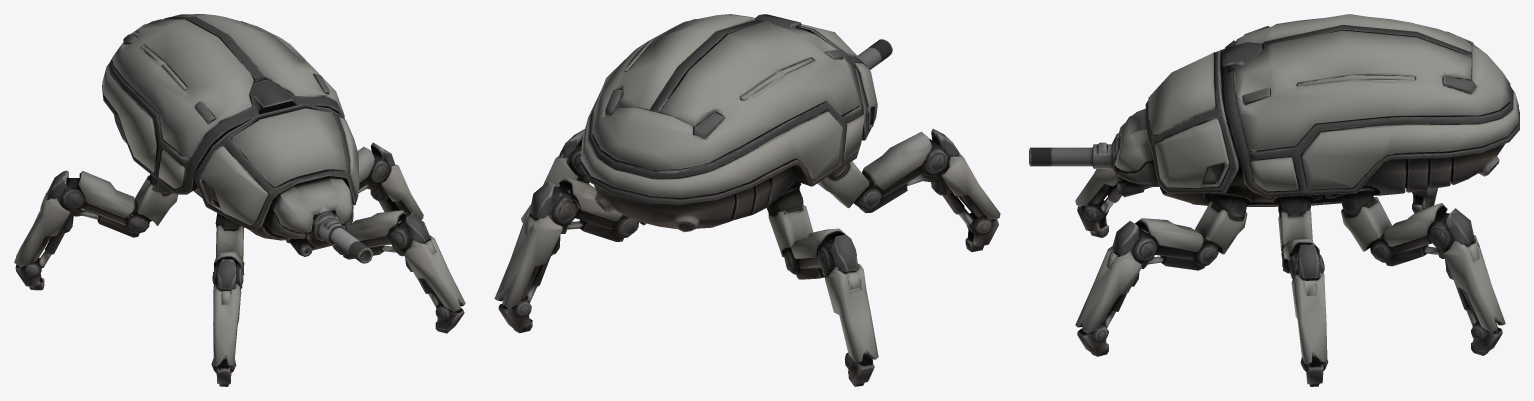
Rendered from crawler.glb.
3 renders of one model, left to right at view 1: azimuth 30°, elevation 25°; view 2: azimuth 150°, elevation 25°; view 3: azimuth 270°, elevation 25°, orthographic. The views are drawn at different scales.
Visible parts, largest first — view 1: tripo_node_1ea0aaac-8f89-4ed9-9bad-2c4273ca5fa6; view 2: tripo_node_1ea0aaac-8f89-4ed9-9bad-2c4273ca5fa6; view 3: tripo_node_1ea0aaac-8f89-4ed9-9bad-2c4273ca5fa6.
Boxes of the visible parts, x1,y1,x2,y2 form: tripo_node_1ea0aaac-8f89-4ed9-9bad-2c4273ca5fa6: [14, 14, 465, 386]; tripo_node_1ea0aaac-8f89-4ed9-9bad-2c4273ca5fa6: [494, 14, 1000, 386]; tripo_node_1ea0aaac-8f89-4ed9-9bad-2c4273ca5fa6: [1029, 14, 1519, 386].
Bounding box in the file's own units: 0.9276 × 0.6008 × 0.998.
1 material, 1 textured.
